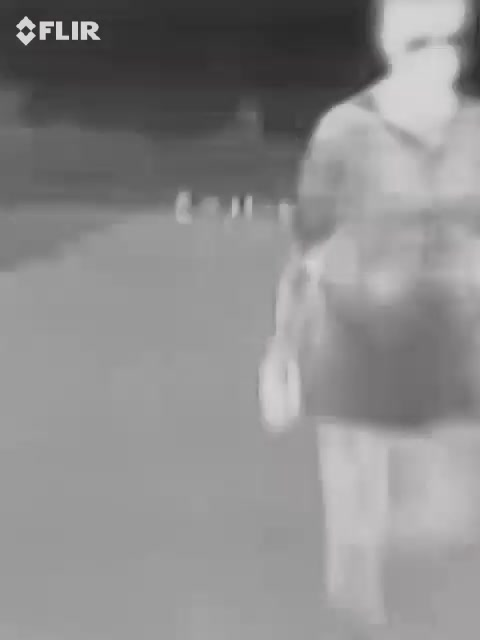head: (366, 3, 469, 101)
